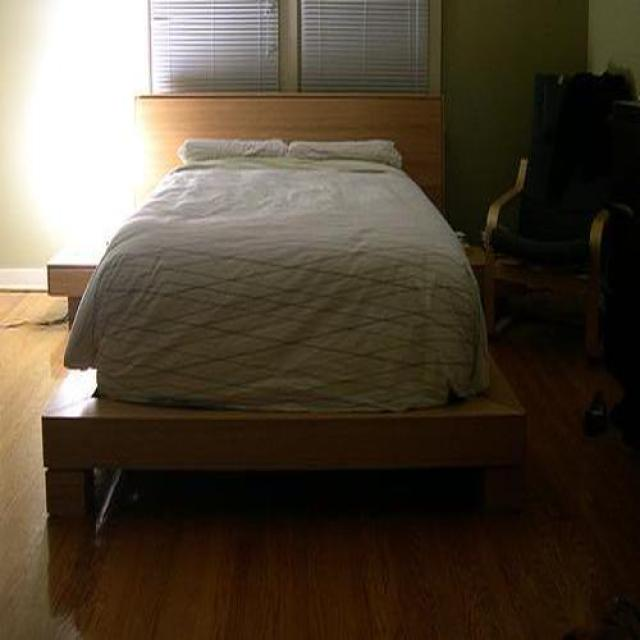bed: (41, 96, 526, 520)
